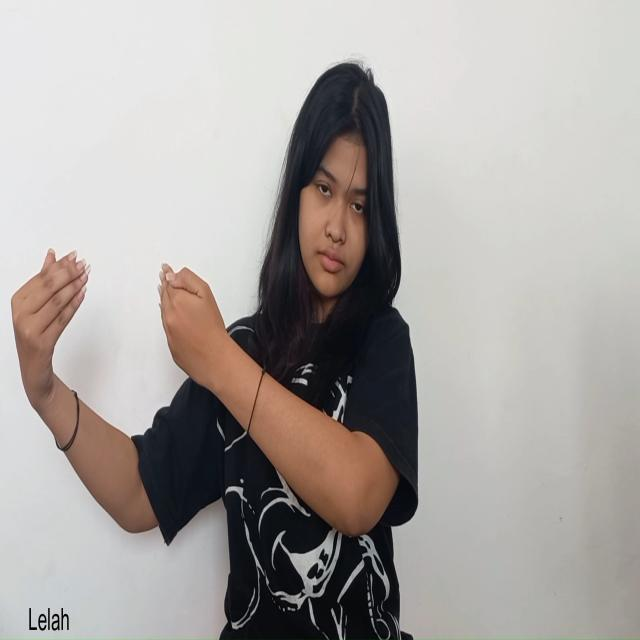Lelah -BISINDO-: (9, 244, 227, 415)
